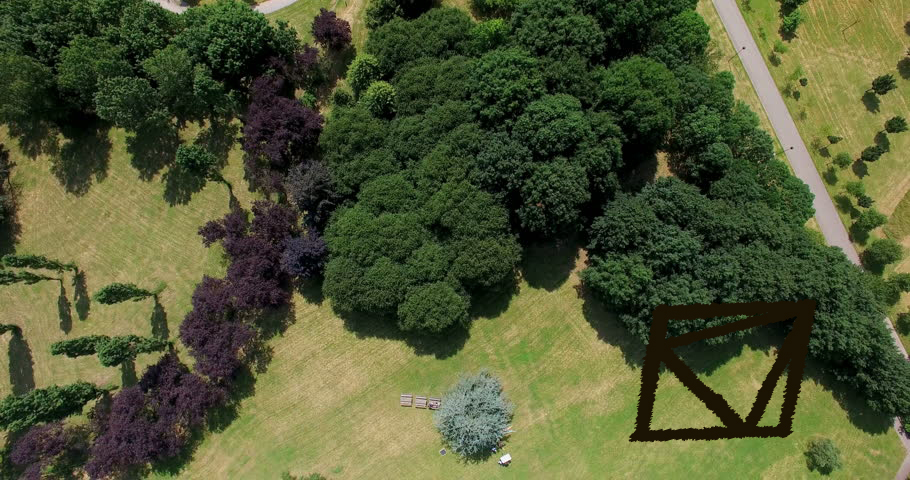marker: (623, 291, 825, 456)
